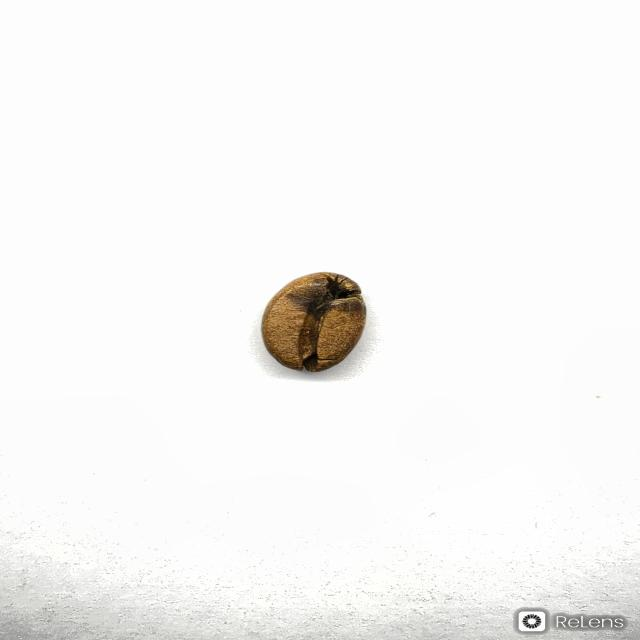Insect damage: (260, 271, 367, 373)
